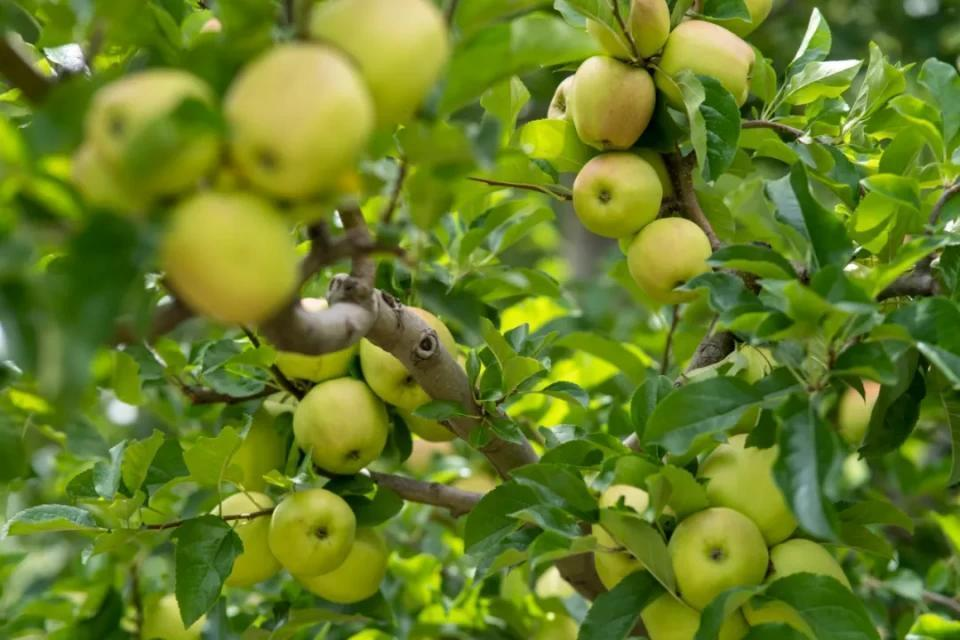apple: (665, 505, 768, 610), (290, 376, 389, 476), (569, 148, 663, 240), (659, 19, 757, 107), (568, 53, 655, 150), (622, 215, 712, 307), (267, 489, 355, 578)
